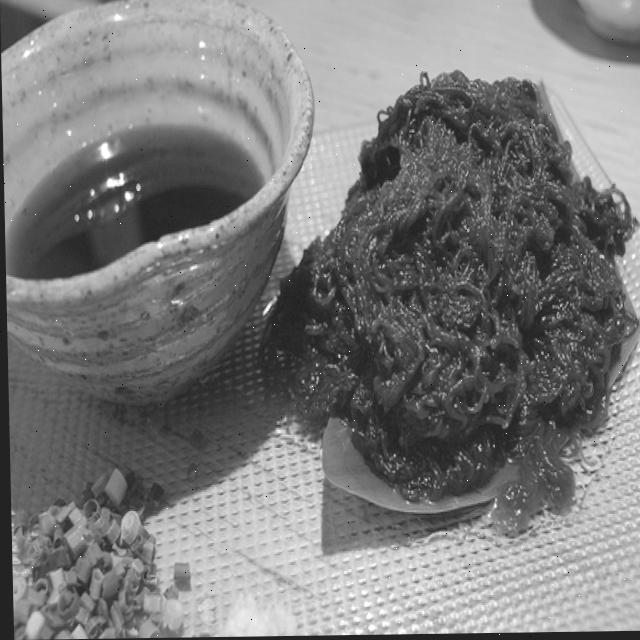蔬菜料理: (21, 22, 640, 559)
